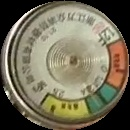green: (87, 84, 120, 113)
needle: (82, 78, 102, 111)
red: (105, 38, 130, 93)
yellow: (41, 92, 91, 118)
